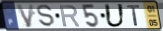5: (80, 3, 101, 29)
R: (58, 4, 82, 28)
S: (36, 4, 56, 28)
T: (126, 4, 142, 27)
U: (104, 3, 127, 29)
V: (15, 3, 35, 29)
